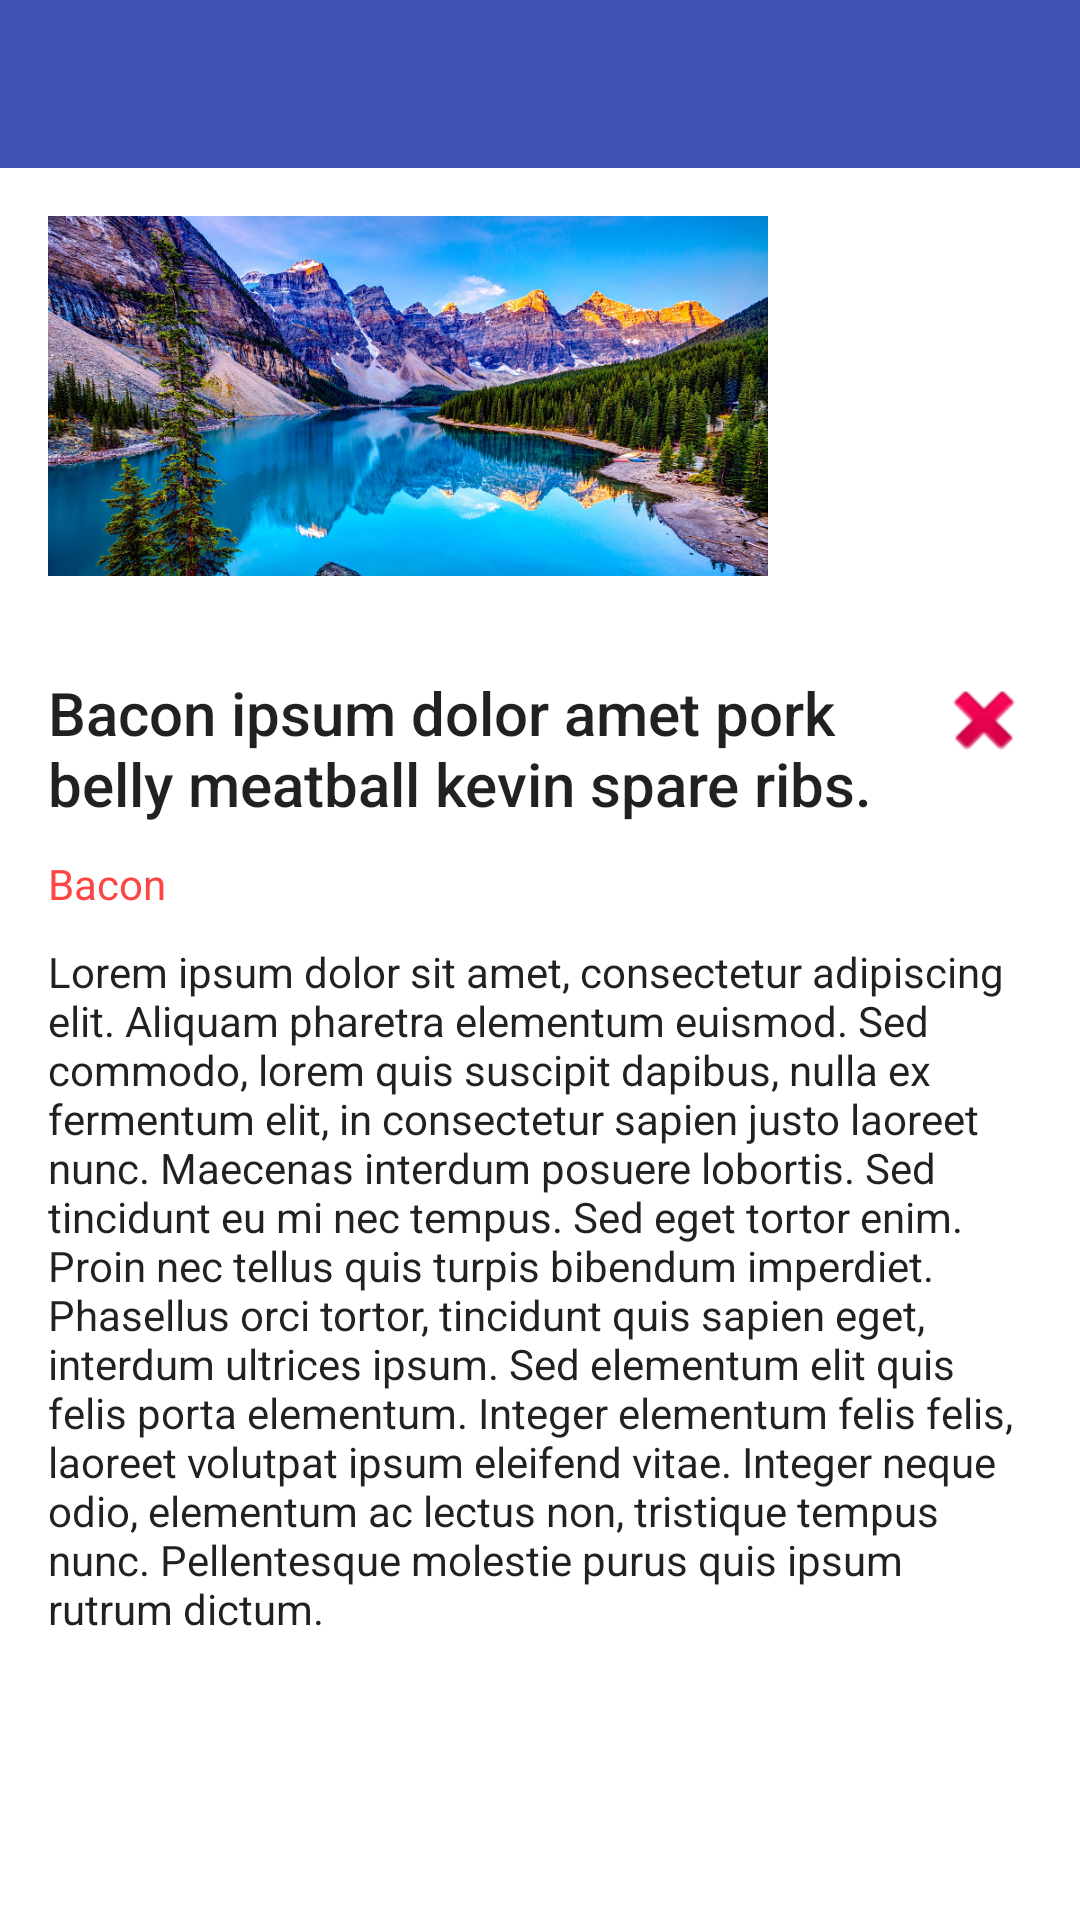

Icon click points for this 1080×1920 phone screenshot, format (x=x, y=y):
delete: (x=984, y=720)
